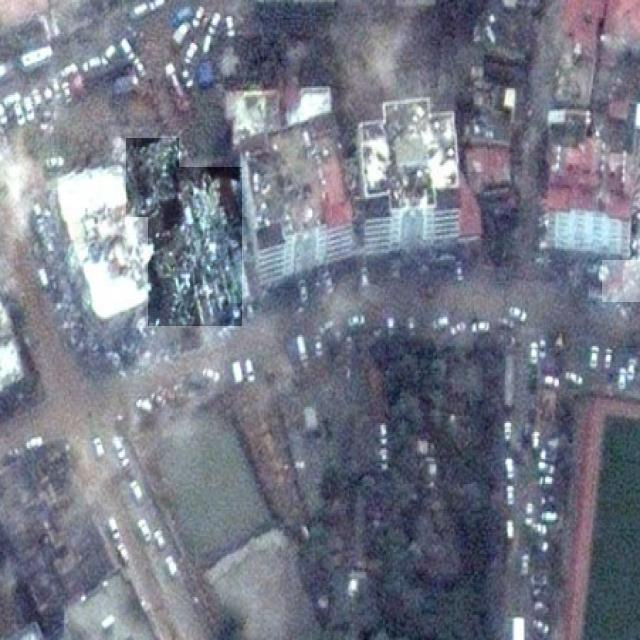Rubble: (148, 167, 242, 326), (126, 138, 179, 217), (602, 260, 640, 302)
